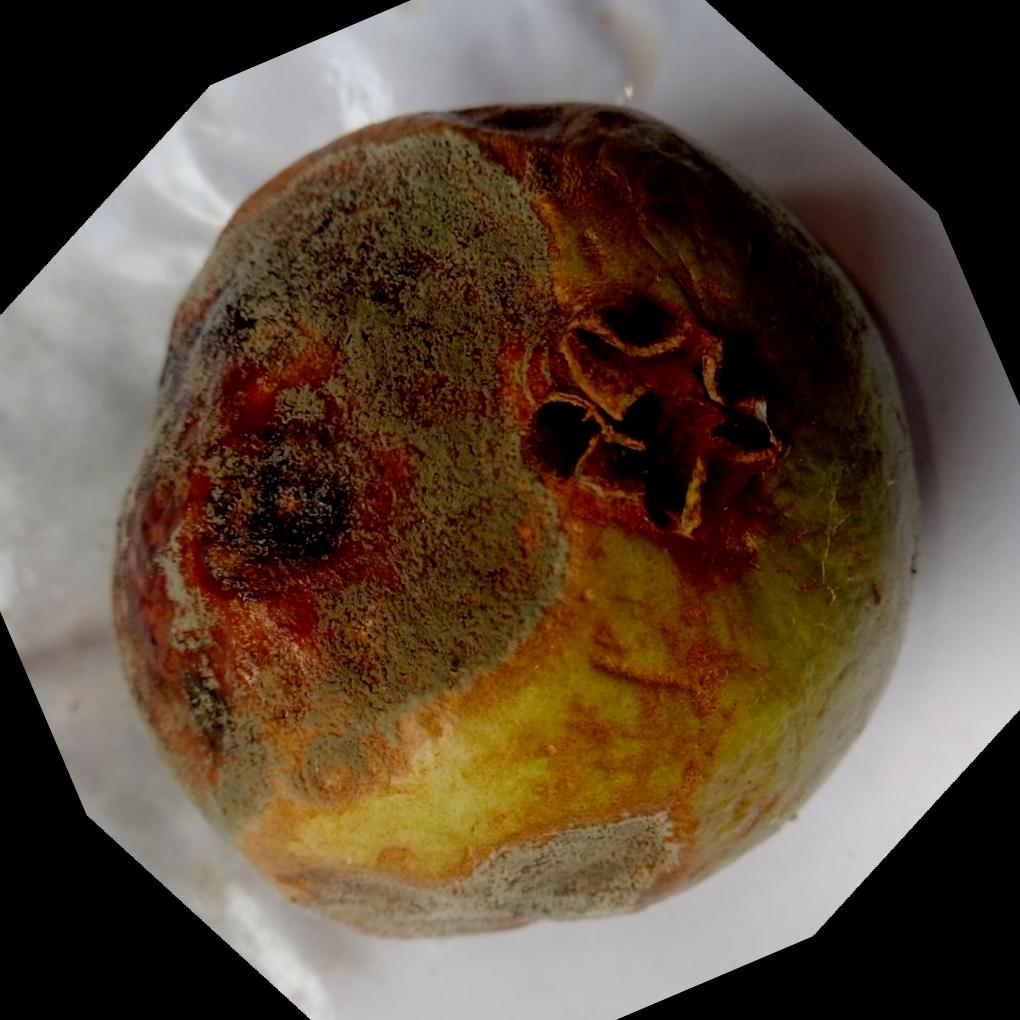FreshOrange: (108, 95, 923, 941)
